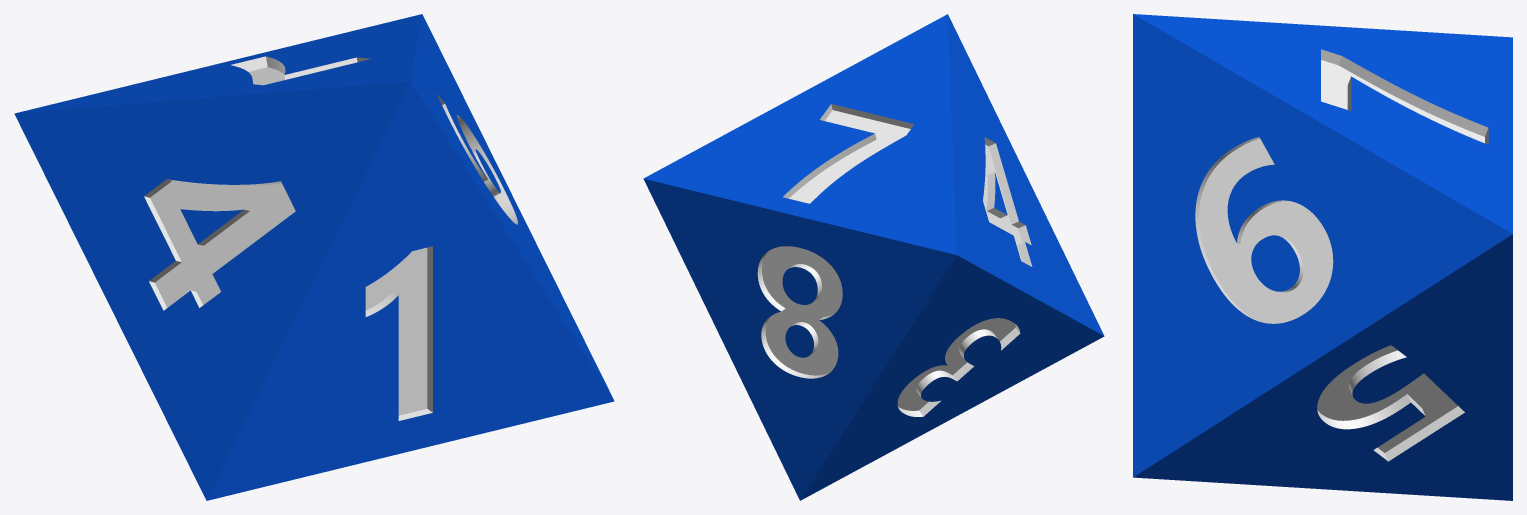
The picture shows the model from 3 angles, left to right: view 1: azimuth 30°, elevation 25°; view 2: azimuth 150°, elevation 25°; view 3: azimuth 270°, elevation 25°; orthographic projection. The views are drawn at different scales.
Visible parts, largest first — view 1: d8; view 2: d8; view 3: d8.
Boxes of the visible parts, box(x1,y1,x2,y2) form: d8: box(14, 14, 614, 500); d8: box(643, 14, 1104, 500); d8: box(1133, 14, 1512, 500).
Size of the model in its own units: 2.21 by 2.55 by 1.8.
1 material, 1 textured.
